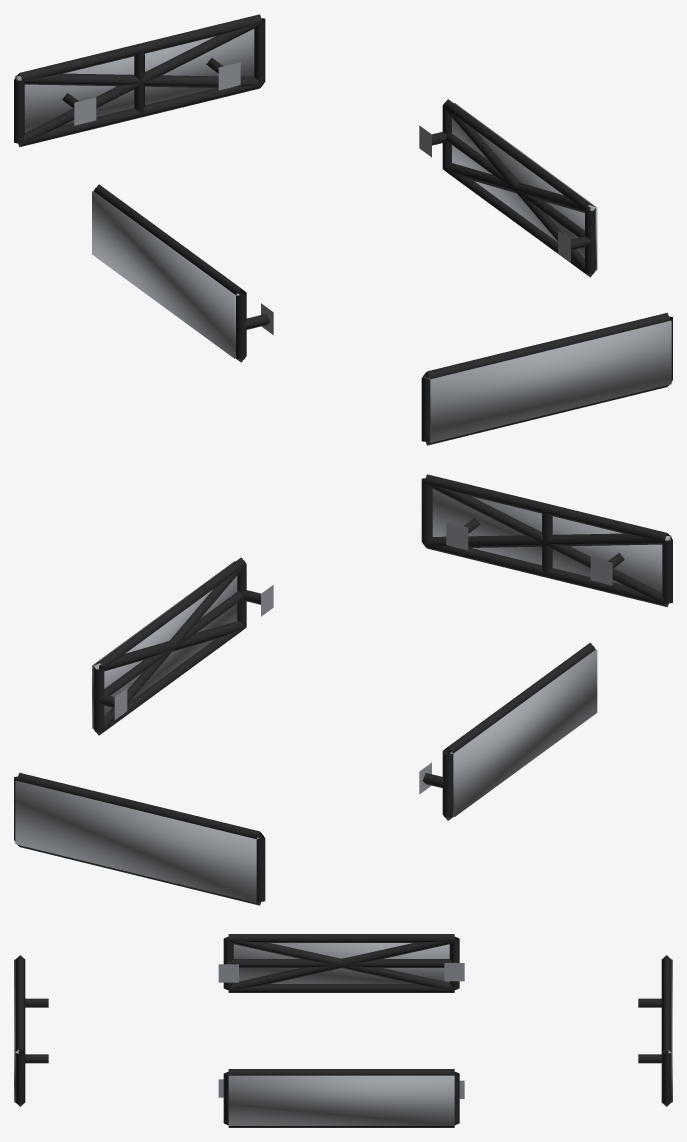
The model's file is kosame_muda_protecao.glb.
3 renders of one model, top to bottom at view 1: azimuth 30°, elevation 25°; view 2: azimuth 150°, elevation 25°; view 3: azimuth 270°, elevation 25°, orthographic. The views are drawn at different scales.
Visible parts, largest first — view 1: Protection_front_Level3_Details, Protection_left_Level3_Details, Protection_rear_Level1_Details, Protection_rear_Level3_Details, Protection_right_Level1_Details, Protection_rear_Level2_Details, Protection_right_Level2_Details, Protection_front_Level1_Details, Protection_right_Level3_Details, Protection_left_Level1_Details; view 2: Protection_rear_Level3_Details, Protection_left_Level3_Details, Protection_front_Level1_Details, Protection_front_Level3_Details, Protection_right_Level1_Details, Protection_front_Level2_Details, Protection_right_Level2_Details, Protection_rear_Level1_Details, Protection_right_Level3_Details, Protection_left_Level1_Details; view 3: Protection_right_Level3_Details, Protection_left_Level1_Details, Protection_left_Level2_Details, Protection_left_Level3_Details, Protection_right_Level1_Details, Protection_rear_Level1_Details, Protection_front_Level1_Details.
Part boxes in pixels (x1,y1,x2,y2): Protection_front_Level3_Details: (428,320,671,442); Protection_left_Level3_Details: (92,191,239,358); Protection_rear_Level1_Details: (14,14,265,147); Protection_rear_Level3_Details: (15,29,254,132); Protection_right_Level1_Details: (419,99,595,277); Protection_rear_Level2_Details: (16,22,262,145); Protection_right_Level2_Details: (443,106,594,276); Protection_front_Level1_Details: (421,312,672,445); Protection_right_Level3_Details: (452,103,597,270); Protection_left_Level1_Details: (94,184,273,362); Protection_rear_Level3_Details: (15,780,258,902); Protection_left_Level3_Details: (450,649,597,816); Protection_front_Level1_Details: (421,474,672,607); Protection_front_Level3_Details: (432,489,671,592); Protection_right_Level1_Details: (93,557,273,735); Protection_front_Level2_Details: (424,482,670,605); Protection_right_Level2_Details: (94,564,246,734); Protection_rear_Level1_Details: (14,772,265,905); Protection_right_Level3_Details: (92,561,237,728); Protection_left_Level1_Details: (419,642,595,820); Protection_right_Level3_Details: (228,1075,454,1125); Protection_left_Level1_Details: (218,934,464,992); Protection_left_Level2_Details: (228,938,454,990); Protection_left_Level3_Details: (233,943,449,983); Protection_right_Level1_Details: (218,1069,464,1127); Protection_rear_Level1_Details: (638,955,671,1106); Protection_front_Level1_Details: (15,955,48,1106).
Size of the model in its own units: 1.81 by 0.354 by 3.59.
Materials: 1 (1 with a texture image).
